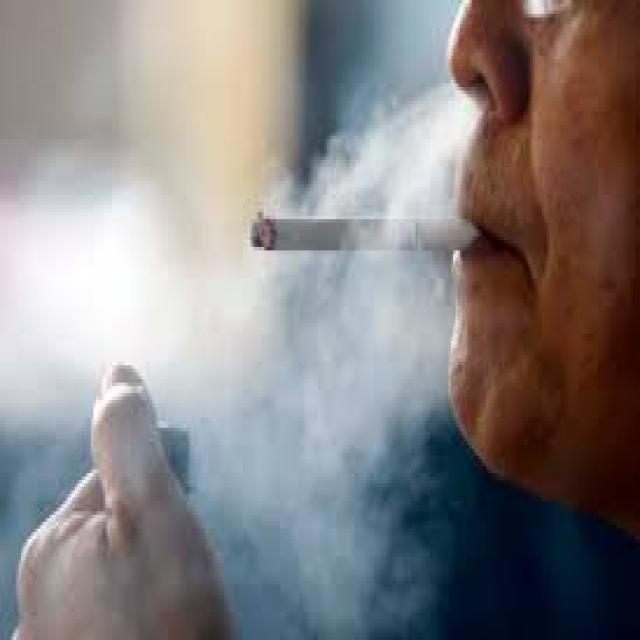smoke: (243, 128, 458, 640)
